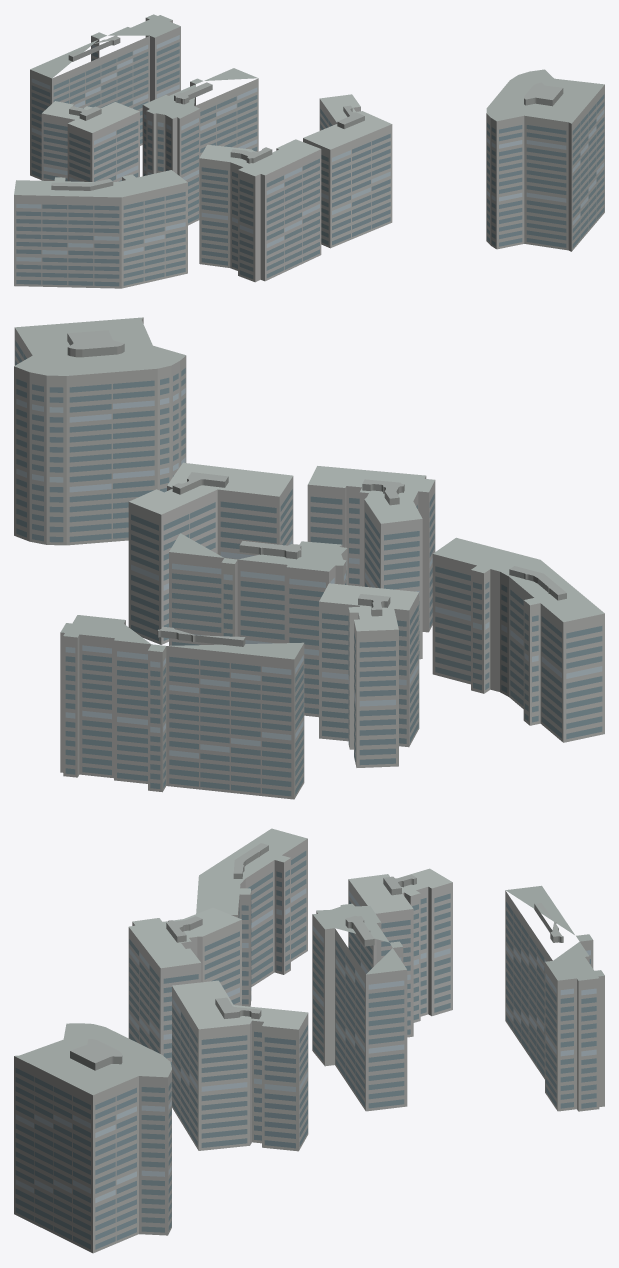
The model's file is apt-a14077901.glb.
3 views of the same model, one above another, from view 1: azimuth 30°, elevation 25°; view 2: azimuth 150°, elevation 25°; view 3: azimuth 270°, elevation 25° (orthographic). The views are drawn at different scales.
Visible parts, largest first — view 1: apt-a14077901; view 2: apt-a14077901; view 3: apt-a14077901.
Part boxes in pixels (x1,y1,x2,y2): apt-a14077901: (14, 14, 604, 288); apt-a14077901: (14, 317, 604, 799); apt-a14077901: (14, 828, 604, 1253).
Size of the model in its own units: 210 by 52 by 168.
